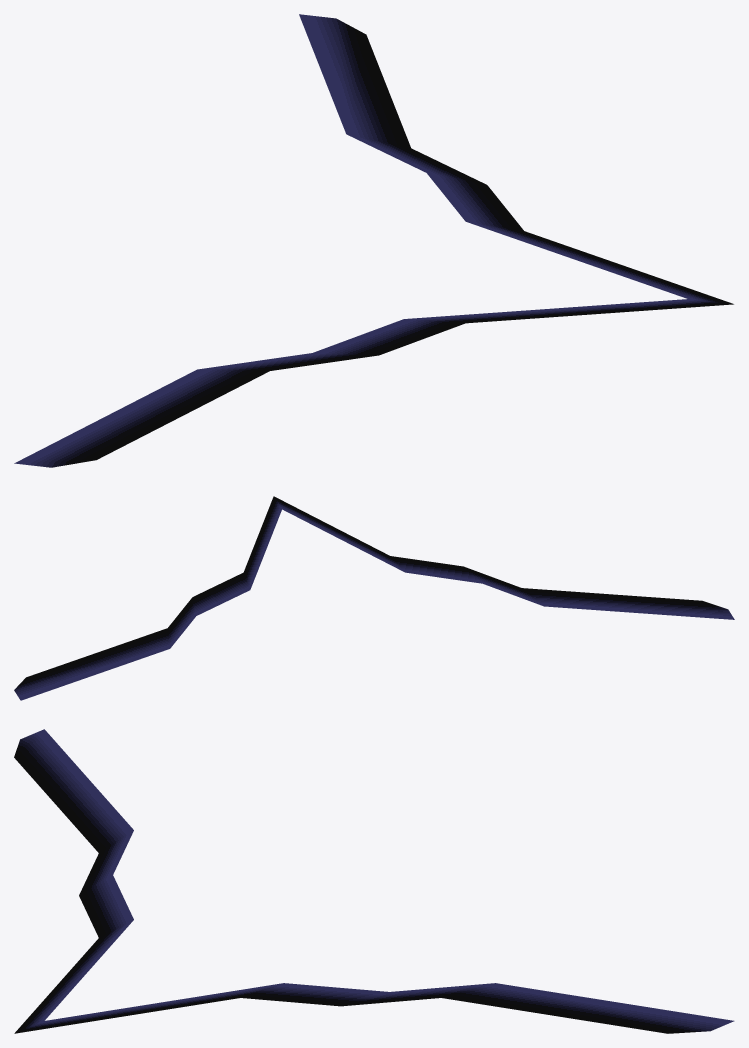
The picture shows the model from 3 angles, top to bottom: view 1: azimuth 30°, elevation 25°; view 2: azimuth 150°, elevation 25°; view 3: azimuth 270°, elevation 25°; orthographic projection. The views are drawn at different scales.
Visible parts, largest first — view 1: Joint_0_Object_0; view 2: Joint_0_Object_0; view 3: Joint_0_Object_0.
Boxes of the visible parts, <box> form: Joint_0_Object_0: <box>14,14,733,467</box>; Joint_0_Object_0: <box>14,496,734,700</box>; Joint_0_Object_0: <box>14,729,734,1033</box>.
Size of the model in its own units: 1478 by 0 by 1478.
Materials: 1 (1 with a texture image).
